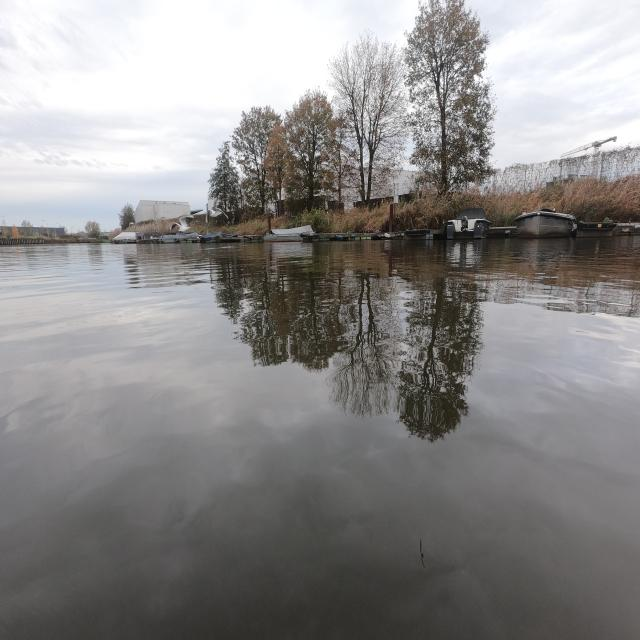boat: (515, 208, 576, 238), (443, 208, 492, 240), (267, 227, 311, 241), (113, 232, 136, 244)
reed: (393, 175, 640, 231), (512, 173, 639, 222), (272, 204, 390, 233), (213, 219, 268, 236)
sky: (3, 1, 417, 225), (470, 1, 639, 159)
tree: (405, 0, 495, 196), (329, 31, 407, 204), (284, 89, 335, 207), (232, 105, 281, 216), (208, 142, 240, 221), (265, 125, 288, 201)
water: (1, 239, 638, 639)
